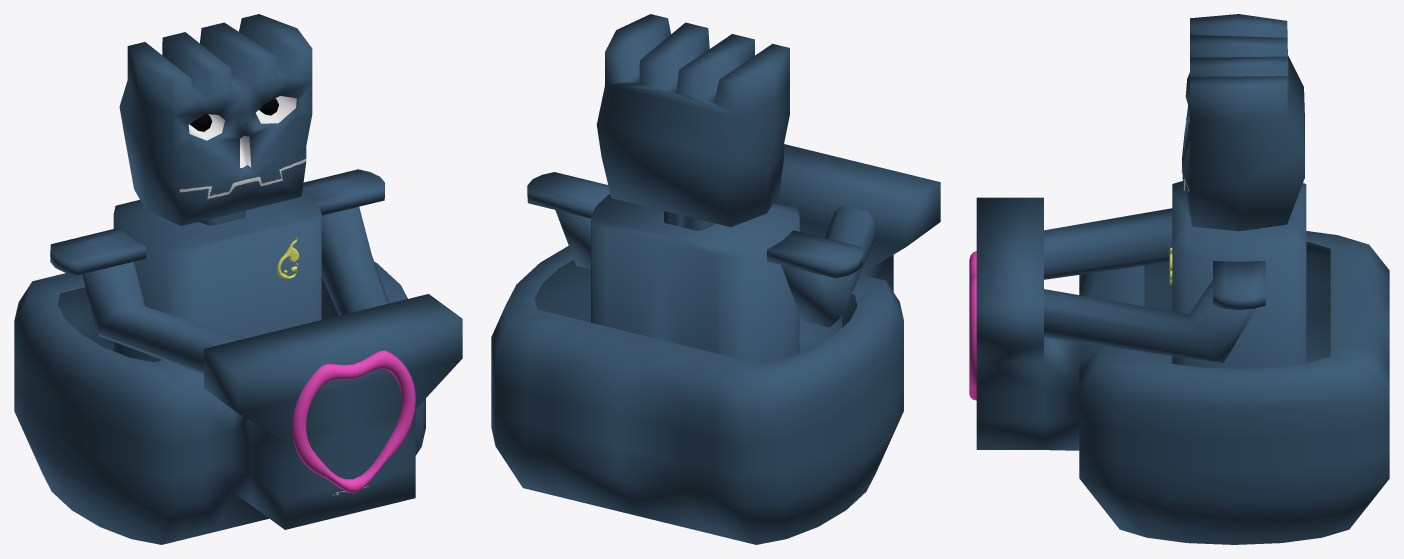
File: GodotToon2.glb
3 views of the same model, side by side, from view 1: azimuth 30°, elevation 25°; view 2: azimuth 150°, elevation 25°; view 3: azimuth 270°, elevation 25° (orthographic).
Visible parts, largest first — view 1: Plane, Torus; view 2: Plane; view 3: Plane, Torus.
Boxes of the visible parts, x1,y1,x2,y2 form: Plane: [14, 14, 462, 544]; Torus: [292, 350, 415, 493]; Plane: [491, 14, 940, 544]; Plane: [976, 14, 1389, 544]; Torus: [969, 251, 976, 400].
Bounding box in the file's own units: 3.34 × 4.08 × 3.69.
Materials: 3 (1 with a texture image).
